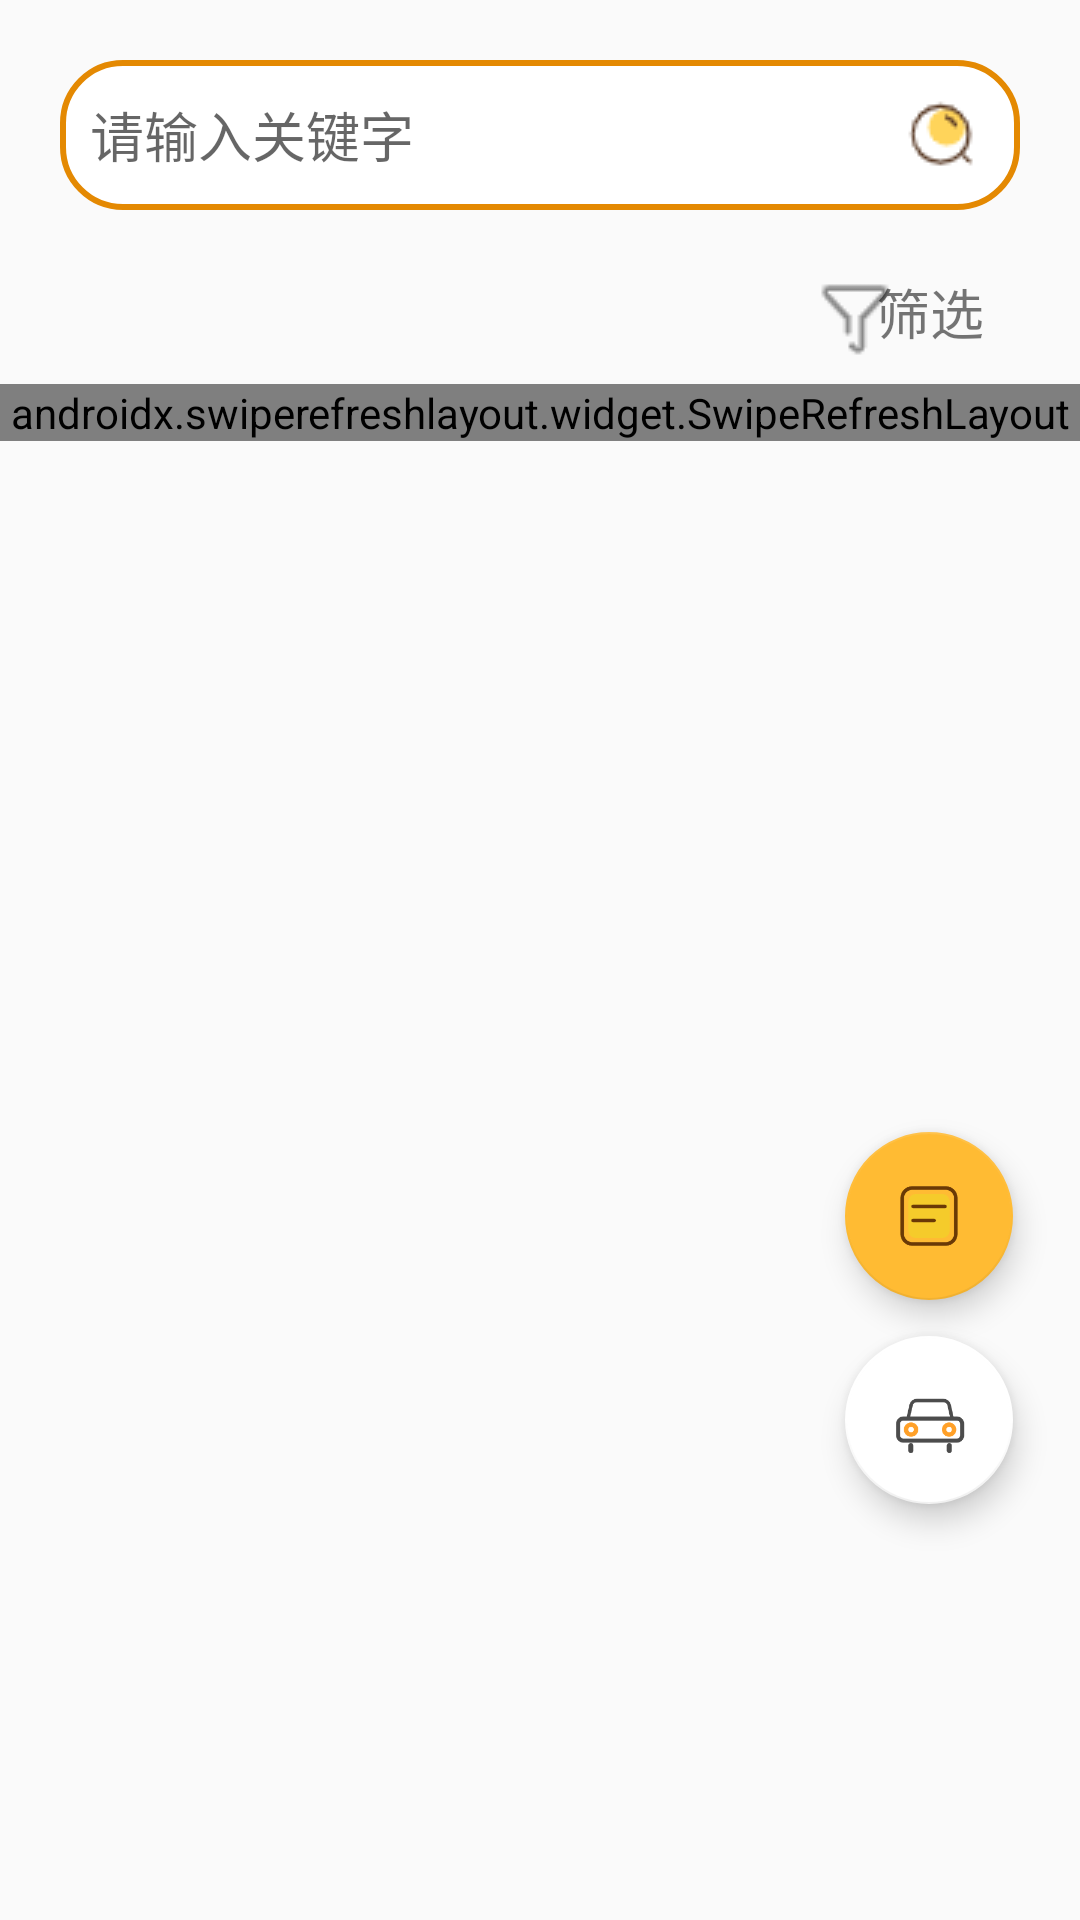

Locate icon controls on the screen. Image size 1080*1920, boxes as (x1, y1, x2, y2).
createcar: (851, 1398, 1013, 1454)
createorder: (845, 1132, 1013, 1300)
